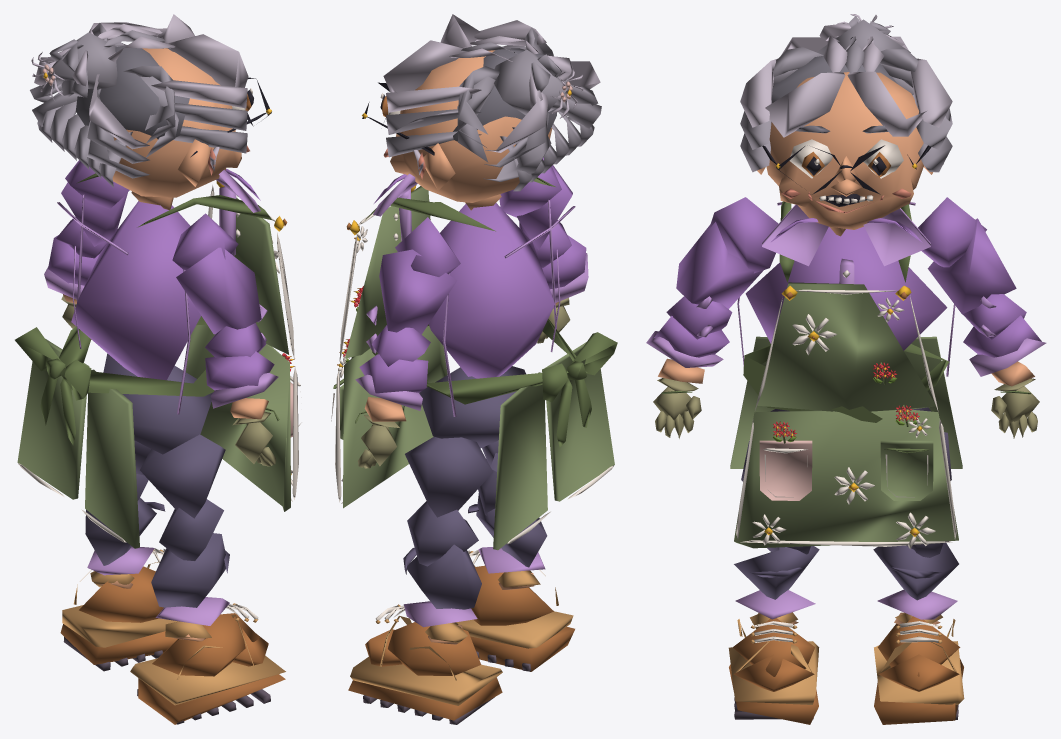
Rendered from npc.mrs-alvarez.lod2.glb.
3 renders of one model, left to right at view 1: azimuth 30°, elevation 25°; view 2: azimuth 150°, elevation 25°; view 3: azimuth 270°, elevation 25°, orthographic.
Parts seen in each view (by area): view 1: head, hip, torso, footR, footL, shinR, armR, foreArmR, legR, armL, shinL, foreArmL (+1 smaller); view 2: head, hip, torso, footL, footR, shinL, armL, foreArmL, legL, shinR, armR, foreArmR (+2 smaller); view 3: hip, head, torso, footL, footR, armR, armL, foreArmL, foreArmR, shinL, shinR, handR (+1 smaller).
Boxes of the visible parts, x1,y1,x2,y2 form: head: [30, 14, 271, 209]; hip: [15, 316, 301, 548]; torso: [57, 169, 294, 414]; footR: [130, 603, 285, 724]; footL: [60, 548, 178, 671]; shinR: [151, 499, 229, 625]; armR: [172, 213, 267, 334]; foreArmR: [205, 323, 278, 419]; legR: [140, 434, 225, 518]; armL: [61, 160, 129, 246]; shinL: [85, 474, 165, 575]; foreArmL: [44, 217, 107, 303]; head: [362, 14, 601, 210]; hip: [331, 319, 617, 550]; torso: [339, 173, 575, 416]; footL: [348, 604, 502, 724]; footR: [456, 550, 574, 671]; shinL: [403, 501, 481, 627]; armL: [366, 217, 460, 334]; foreArmL: [355, 325, 430, 421]; legL: [405, 436, 493, 517]; shinR: [468, 469, 547, 573]; armR: [499, 157, 572, 249]; foreArmR: [519, 220, 588, 305]; hip: [730, 336, 962, 549]; head: [740, 14, 952, 236]; torso: [737, 201, 955, 411]; footL: [874, 612, 964, 724]; footR: [728, 612, 819, 724]; armR: [676, 197, 778, 308]; armL: [918, 197, 1016, 314]; foreArmL: [963, 294, 1046, 386]; foreArmR: [646, 296, 732, 383]; shinL: [873, 542, 958, 619]; shinR: [734, 546, 819, 619]; handR: [653, 378, 701, 438].
Bounding box in the file's own units: 0.6071 × 1.69 × 0.954.
